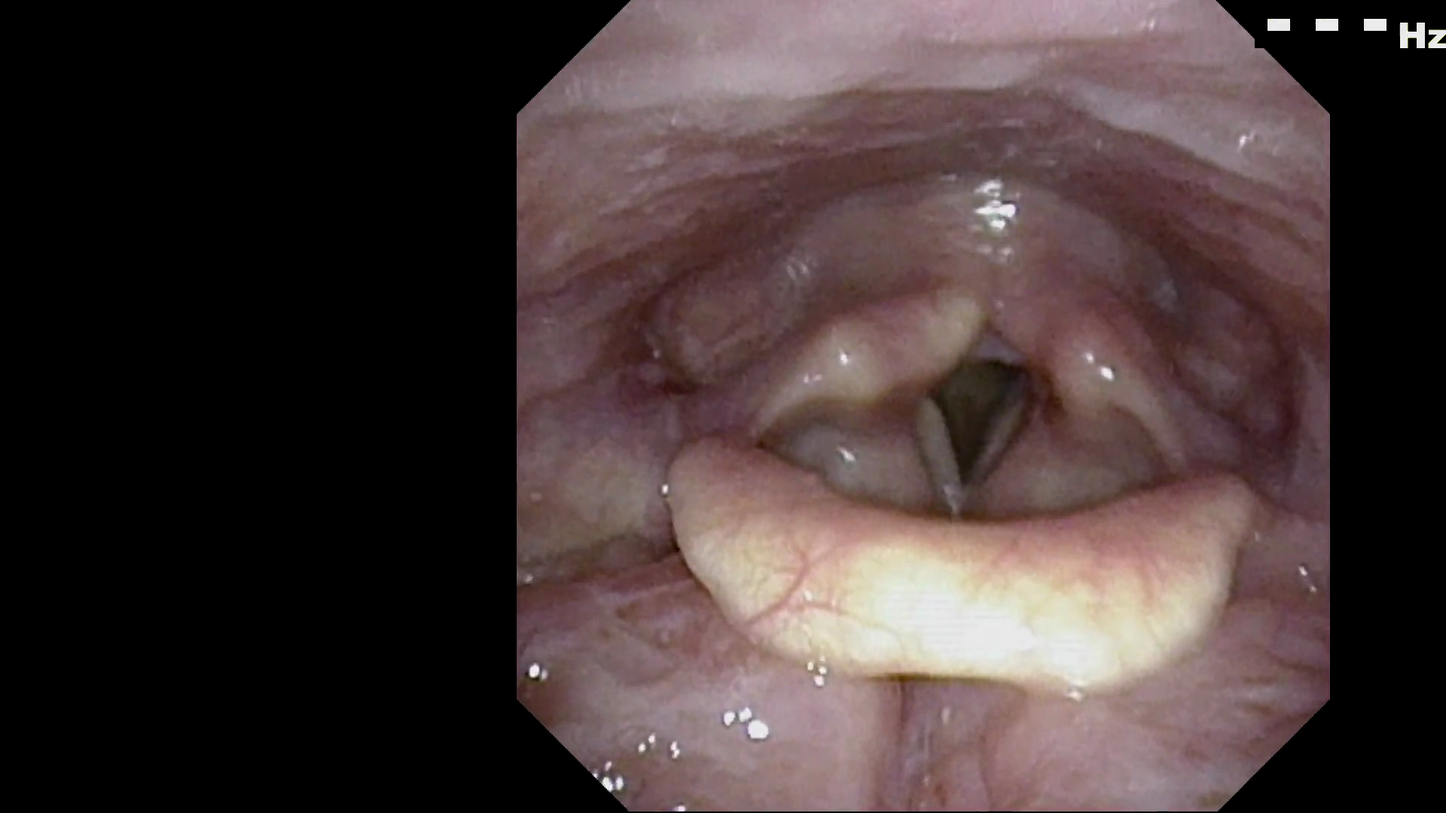epiglottis: (659, 409, 1276, 702)
trachea: (896, 328, 1062, 500)
